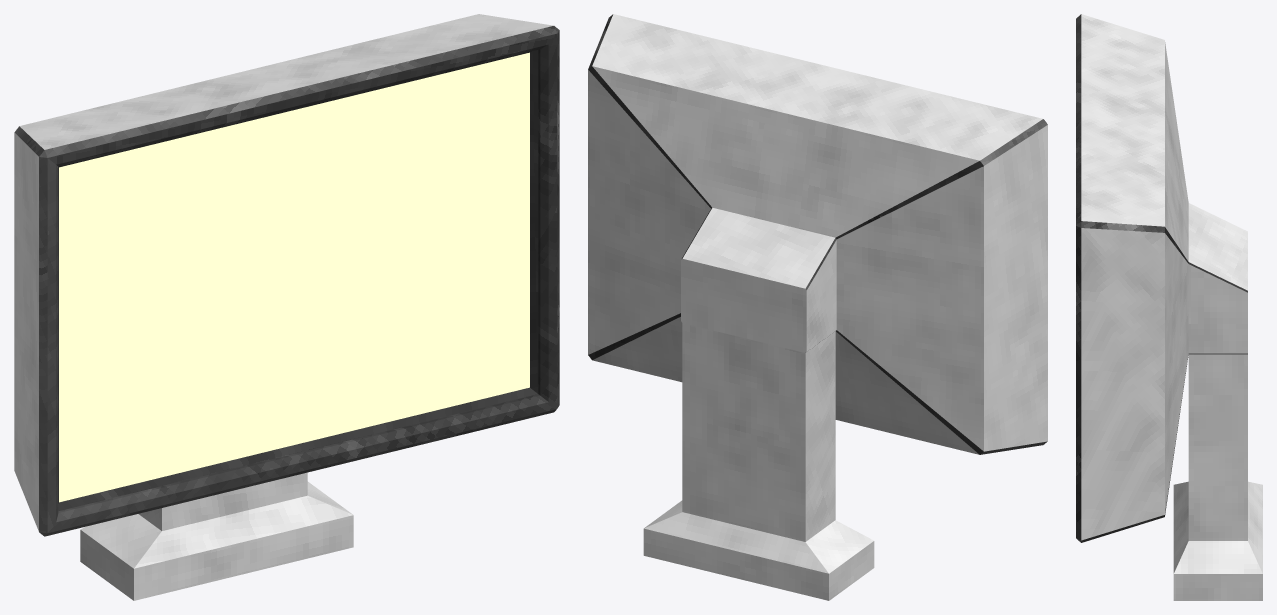
The model's file is table_monitor.glb.
The picture shows the model from 3 angles, left to right: view 1: azimuth 30°, elevation 25°; view 2: azimuth 150°, elevation 25°; view 3: azimuth 270°, elevation 25°; orthographic projection. The views are drawn at different scales.
Parts seen in each view (by area): view 1: Table Monitor; view 2: Table Monitor; view 3: Table Monitor.
Boxes of the visible parts, x1,y1,x2,y2 form: Table Monitor: (14,14,559,600); Table Monitor: (588,14,1047,600); Table Monitor: (1076,14,1262,600).
Size of the model in its own units: 0.7098 by 0.6868 by 0.2651.
3 materials, 2 textured.
